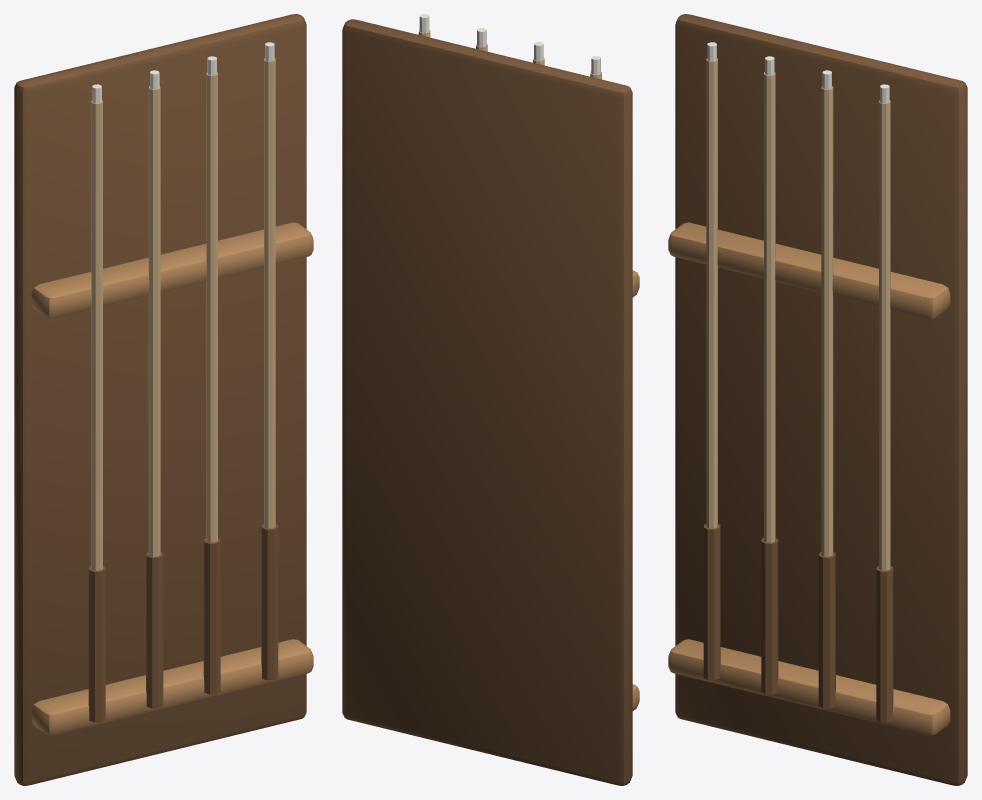
File: cue_rack.glb
3 renders of one model, left to right at view 1: azimuth 30°, elevation 25°; view 2: azimuth 150°, elevation 25°; view 3: azimuth 330°, elevation 25°, orthographic.
Visible parts, largest first — view 1: FURN-cue_rack; view 2: FURN-cue_rack; view 3: FURN-cue_rack.
Boxes of the visible parts, <box> form: FURN-cue_rack: <box>14,14,313,785</box>; FURN-cue_rack: <box>342,14,639,785</box>; FURN-cue_rack: <box>668,14,967,785</box>.
Bounding box in the file's own units: 0.6 × 1.4 × 0.119.
